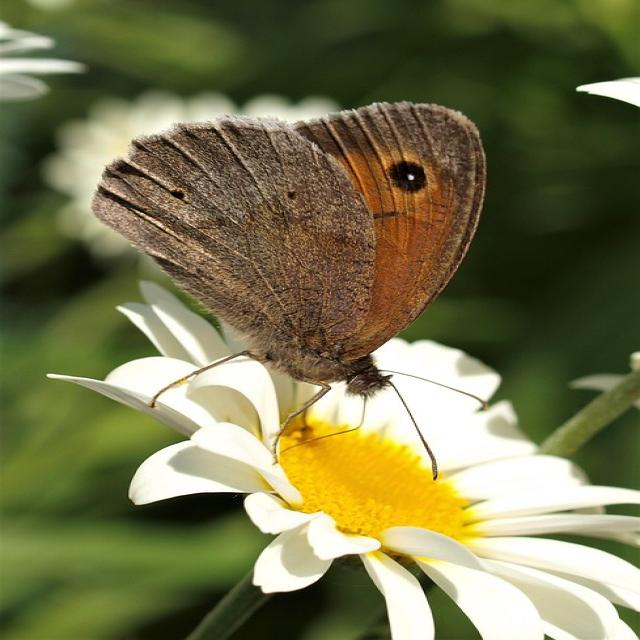butterfly: (92, 102, 487, 398)
